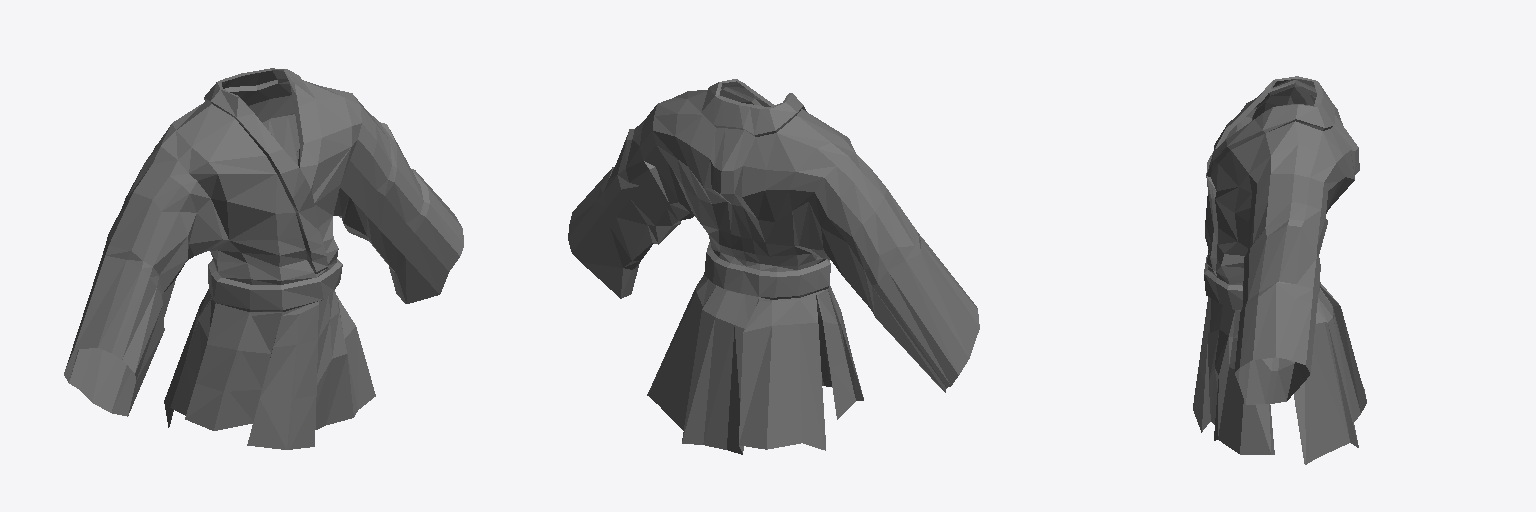
The model's file is CompleteShirtNoTriangles.obj.
The picture shows the model from 3 angles: view 1: azimuth 30°, elevation 25°; view 2: azimuth 150°, elevation 25°; view 3: azimuth 270°, elevation 25°; orthographic projection.
Parts seen in each view (by area): view 1: VestOneSleeve:Mesh1 VestOneSleeve:polySurface5 VestOneSleeve:pol; view 2: VestOneSleeve:Mesh1 VestOneSleeve:polySurface5 VestOneSleeve:pol; view 3: VestOneSleeve:Mesh1 VestOneSleeve:polySurface5 VestOneSleeve:pol.
Part boxes in pixels (x1,y1,x2,y2): VestOneSleeve:Mesh1 VestOneSleeve:polySurface5 VestOneSleeve:pol: (64,68,463,449); VestOneSleeve:Mesh1 VestOneSleeve:polySurface5 VestOneSleeve:pol: (568,79,979,454); VestOneSleeve:Mesh1 VestOneSleeve:polySurface5 VestOneSleeve:pol: (1193,76,1366,464).
Size of the model in its own units: 60.45 by 50.08 by 23.21.